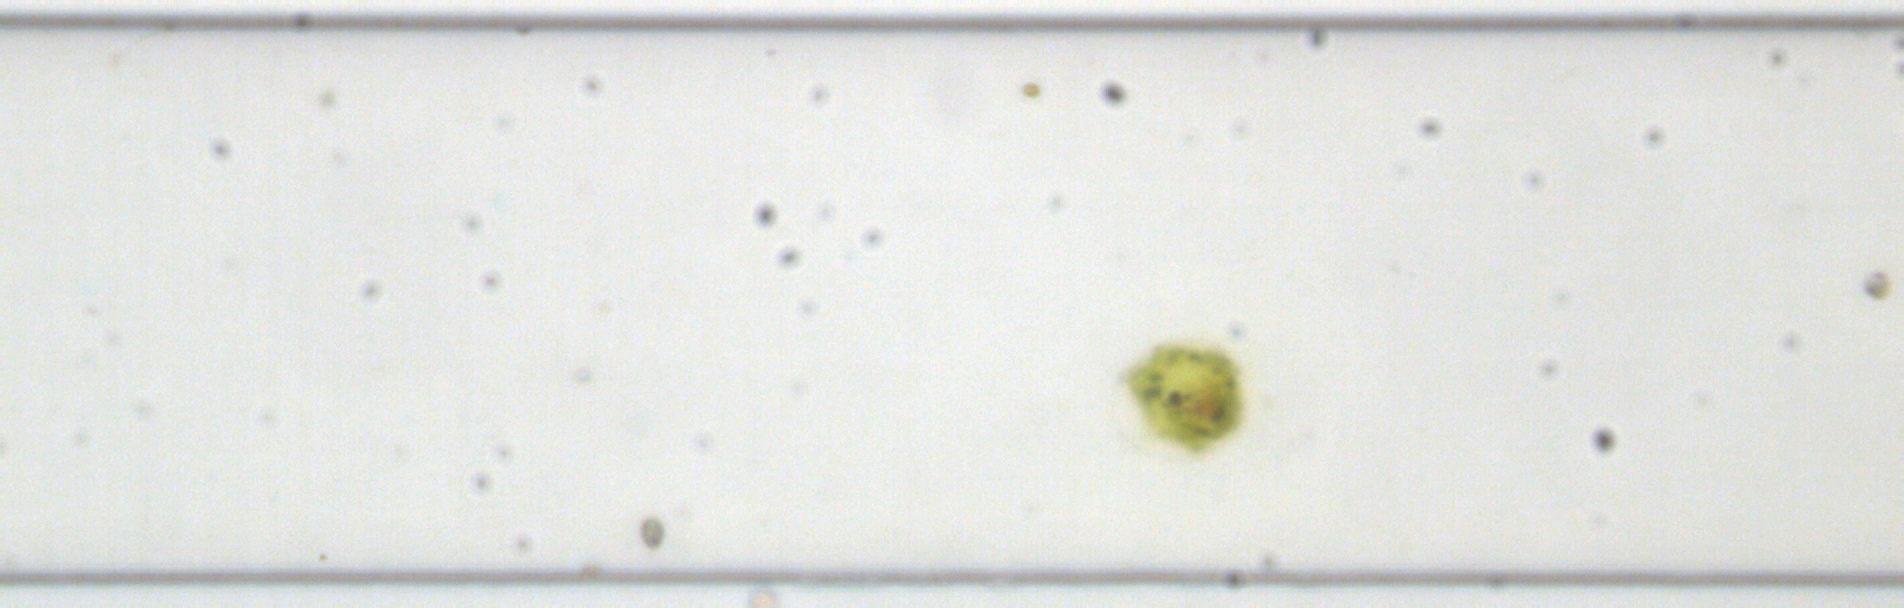Chlorella: (1019, 79, 1041, 100)
Dunaliella salina: (1861, 266, 1891, 301), (639, 513, 664, 549)
Haematococcus: (1118, 337, 1247, 458)
